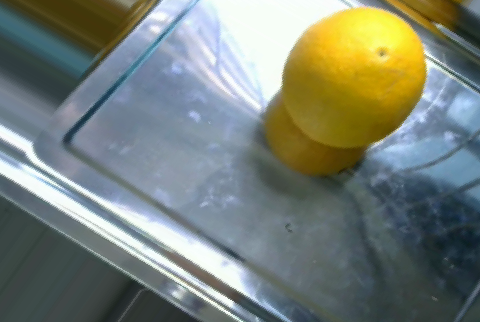Orange: (280, 6, 427, 147)
